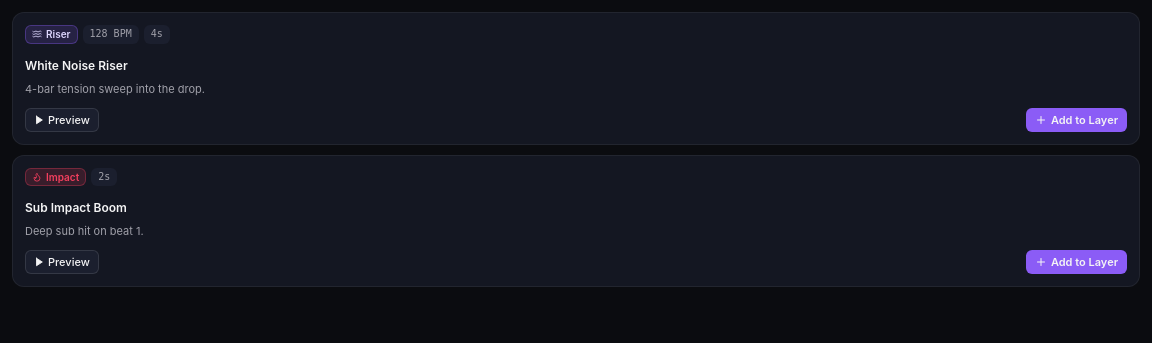
SoundsTab › shows an error banner if addSfxLayer rejects
The image size is (1152, 343).
Click the 1st button "Add to Layer". click: {"x": 1076, "y": 120}
box: [1026,108,1127,132]
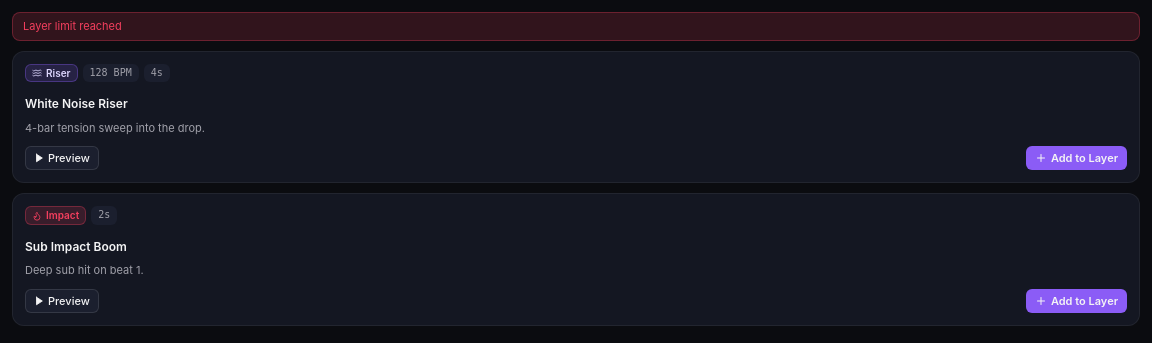
Expected: the text "Layer limit reached" is shown, [12,12,1140,41]
